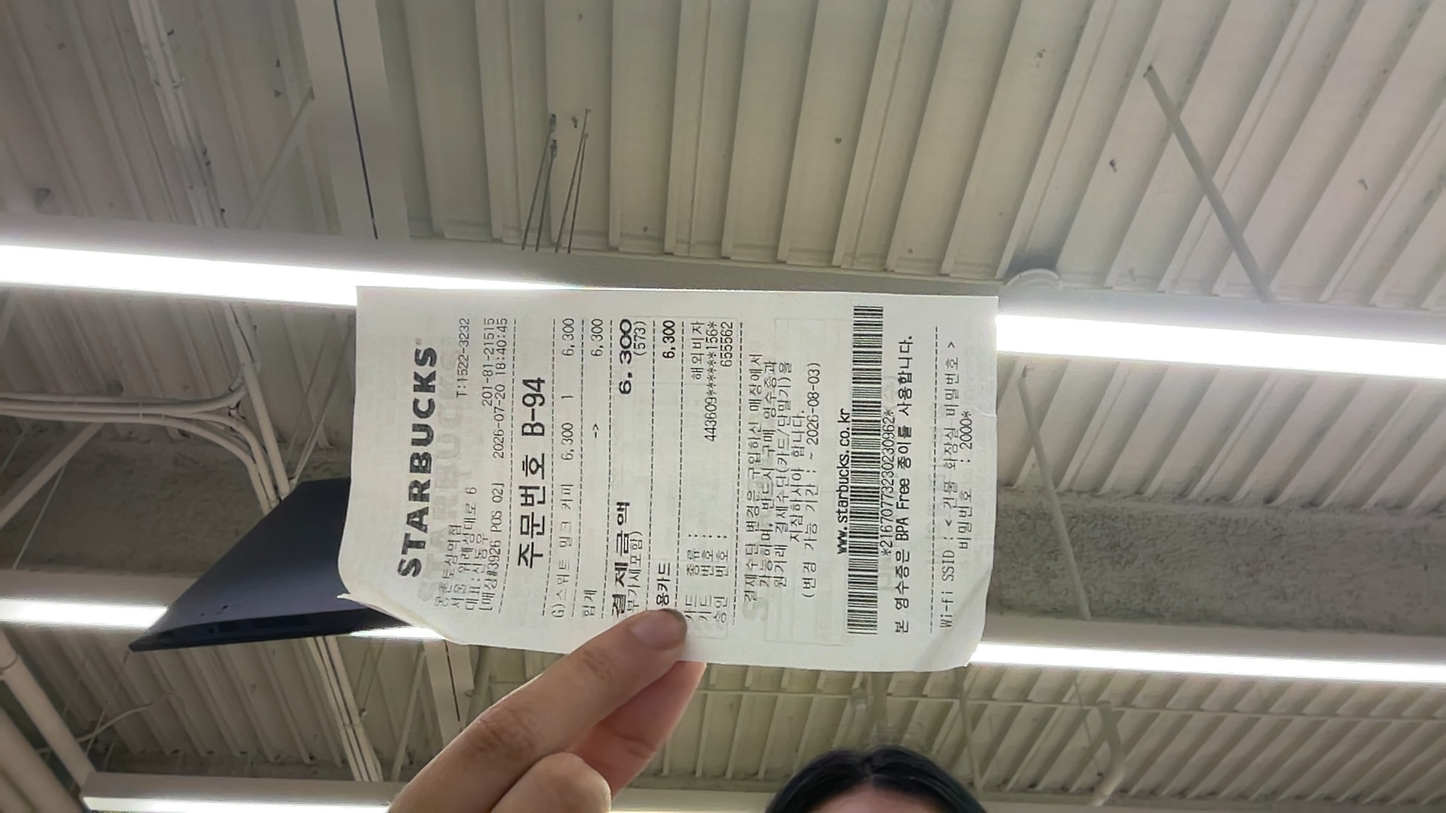Paper: (380, 628, 713, 813)
